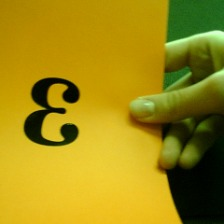orange3: (22, 72, 88, 149)
